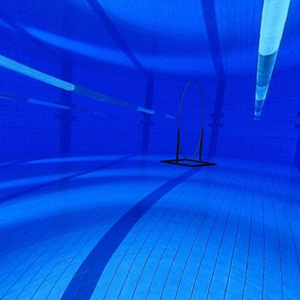circle: (158, 76, 220, 171)
